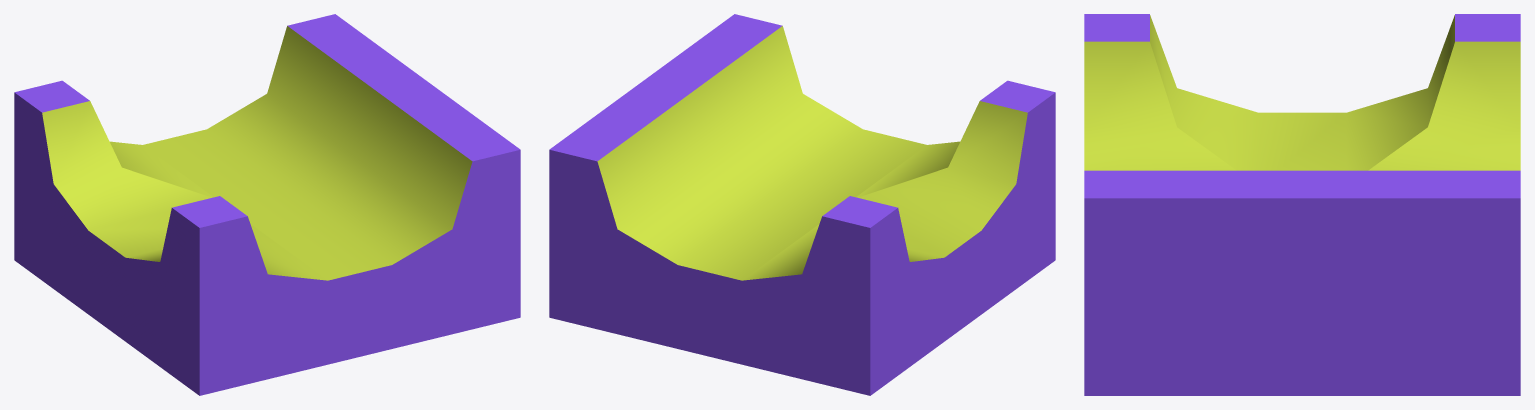
Rendered from split.fbx.
The picture shows the model from 3 angles, left to right: view 1: azimuth 30°, elevation 25°; view 2: azimuth 150°, elevation 25°; view 3: azimuth 270°, elevation 25°; orthographic projection. The views are drawn at different scales.
Parts seen in each view (by area): view 1: split; view 2: split; view 3: split.
Boxes of the visible parts, bbox=[...] form: split: bbox=[14, 14, 520, 395]; split: bbox=[549, 14, 1055, 395]; split: bbox=[1084, 14, 1520, 395].
Size of the model in its own units: 10 by 5 by 10.
